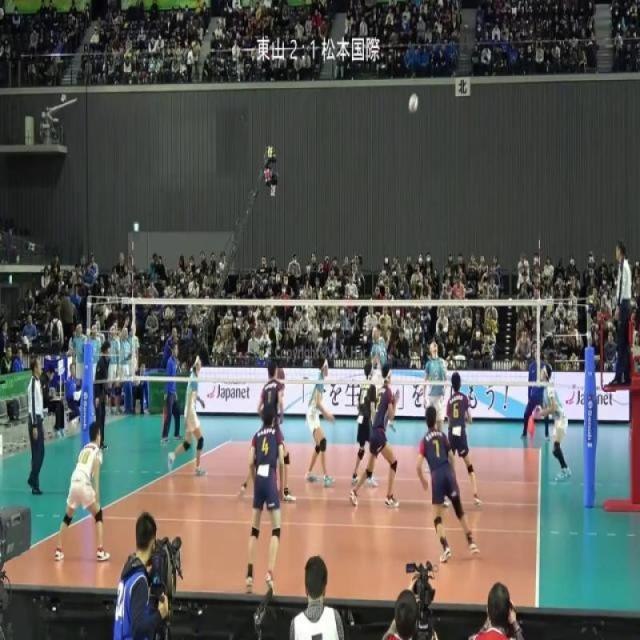volleyball: (408, 92, 419, 114)
